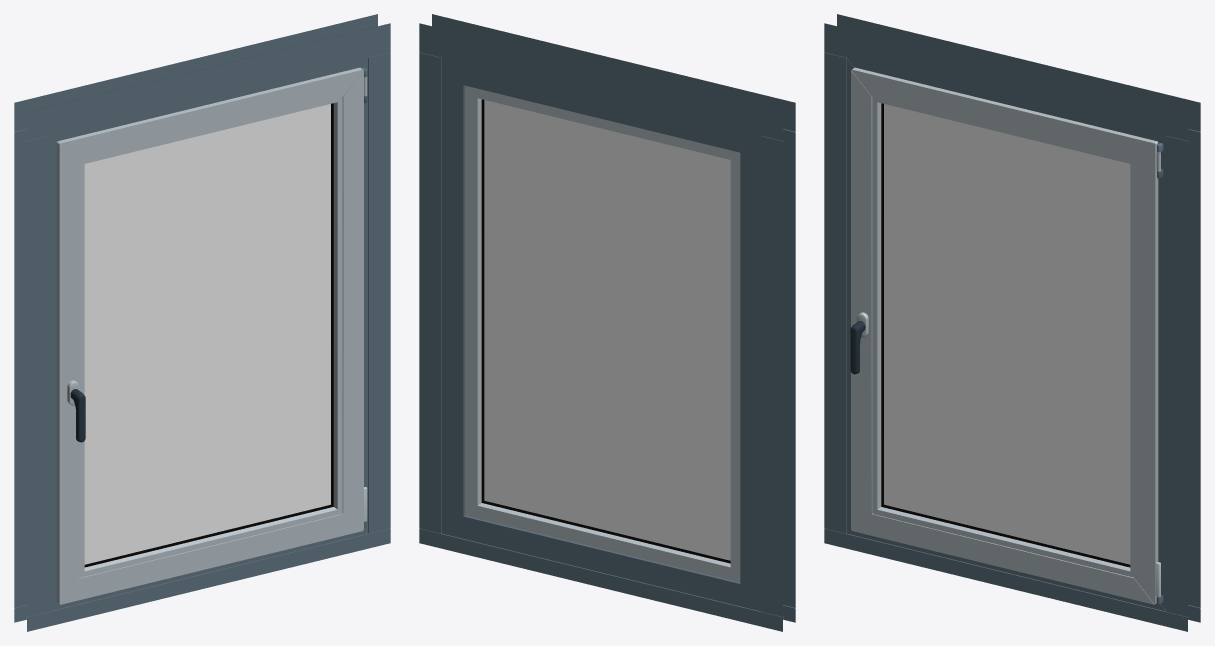
The model's file is window-opening-v3.glb.
3 renders of one model, left to right at view 1: azimuth 30°, elevation 25°; view 2: azimuth 150°, elevation 25°; view 3: azimuth 330°, elevation 25°, orthographic.
Visible parts, largest first — view 1: #WIN0003_Window, #WIN0003_Frame, #WIN0003_Handle; view 2: #WIN0003_Window, #WIN0003_Frame; view 3: #WIN0003_Window, #WIN0003_Frame, #WIN0003_Handle.
Part boxes in pixels (<box>): #WIN0003_Window: <box>56,67,367,604</box>; #WIN0003_Frame: <box>14,14,390,631</box>; #WIN0003_Handle: <box>70,389,85,442</box>; #WIN0003_Window: <box>465,85,740,582</box>; #WIN0003_Frame: <box>419,14,795,631</box>; #WIN0003_Window: <box>851,67,1160,604</box>; #WIN0003_Frame: <box>824,14,1200,631</box>; #WIN0003_Handle: <box>850,321,865,374</box>.
Size of the model in its own units: 1.04 by 1.42 by 0.128.
Materials: 4 (4 with a texture image).
